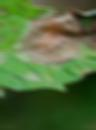Tomato leaf late blight: (0, 0, 96, 103)
